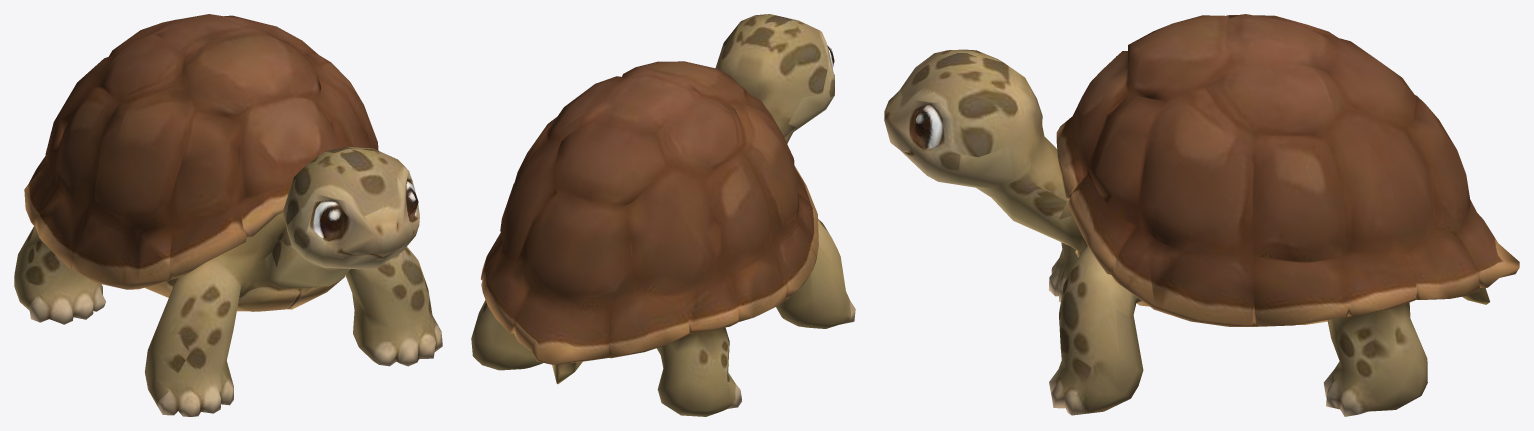
File: tortoise.glb
3 renders of one model, left to right at view 1: azimuth 30°, elevation 25°; view 2: azimuth 150°, elevation 25°; view 3: azimuth 270°, elevation 25°, orthographic. The views are drawn at different scales.
Parts seen in each view (by area): view 1: model; view 2: model; view 3: model.
Part boxes in pixels (bbox=[...]): model: bbox=[14, 14, 442, 416]; model: bbox=[471, 14, 855, 416]; model: bbox=[884, 14, 1519, 416].
Bounding box in the file's own units: 1.11 × 1.05 × 1.9.
1 material, 1 textured.
